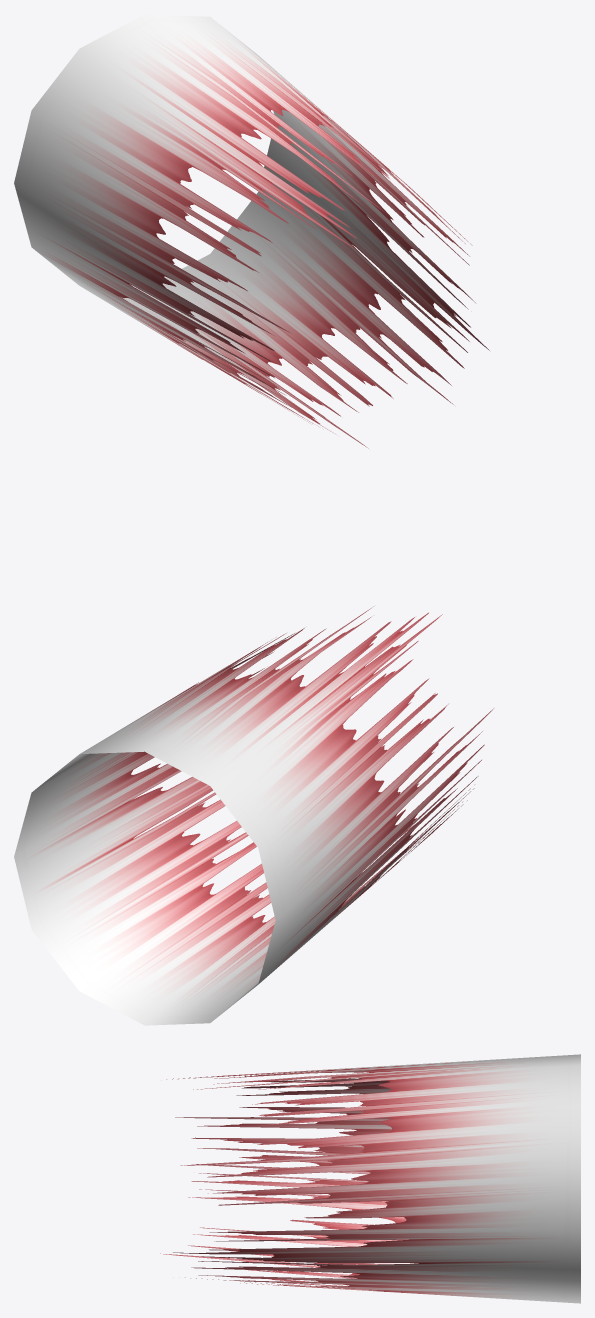
The model's file is Effect7.obj.
The picture shows the model from 3 angles, top to bottom: view 1: azimuth 30°, elevation 25°; view 2: azimuth 150°, elevation 25°; view 3: azimuth 270°, elevation 25°; orthographic projection. The views are drawn at different scales.
Visible parts, largest first — view 1: Cylinder001; view 2: Cylinder001; view 3: Cylinder001.
Part boxes in pixels (box(x1,y1,x2,y2)): Cylinder001: box(14, 14, 489, 448); Cylinder001: box(14, 606, 493, 1025); Cylinder001: box(160, 1054, 580, 1303).
Size of the model in its own units: 32.5 by 32.5 by 73.66.
Materials: 1 (1 with a texture image).
